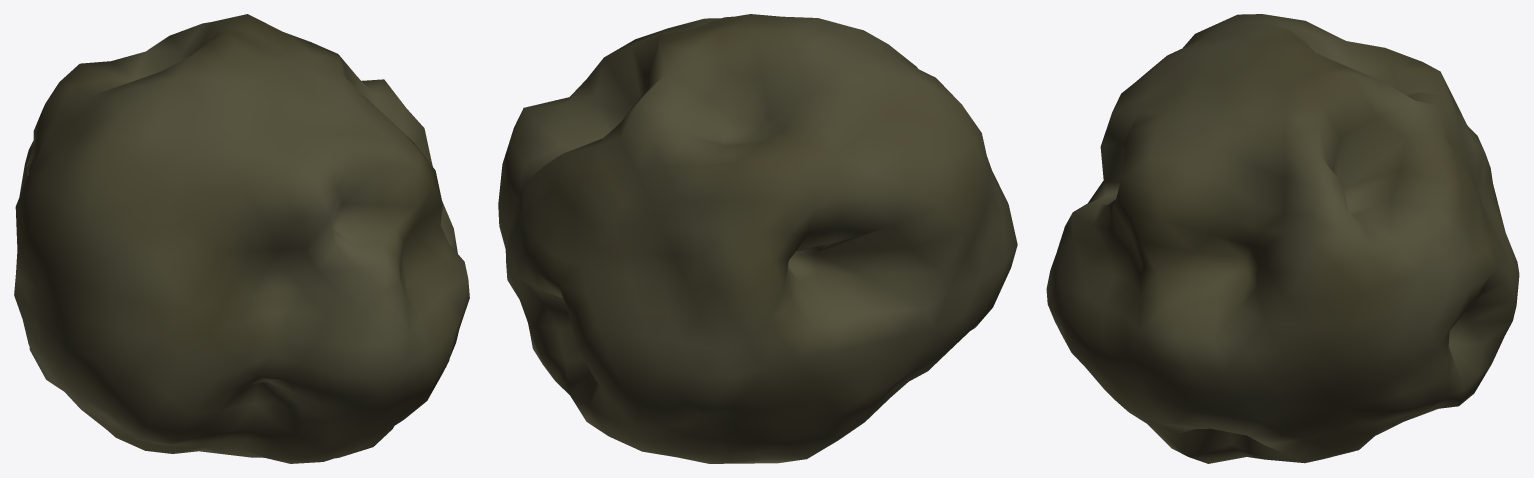
File: asteroid_23.glb
3 views of the same model, side by side, from view 1: azimuth 30°, elevation 25°; view 2: azimuth 150°, elevation 25°; view 3: azimuth 270°, elevation 25° (orthographic). The views are drawn at different scales.
Visible parts, largest first — view 1: Asteroid_23; view 2: Asteroid_23; view 3: Asteroid_23.
Boxes of the visible parts, left/top/right/bottom form: Asteroid_23: left=14, top=14, right=469, bottom=463; Asteroid_23: left=498, top=14, right=1017, bottom=463; Asteroid_23: left=1046, top=14, right=1519, bottom=463.
Bounding box in the file's own units: 1.8 × 1.64 × 1.81.
